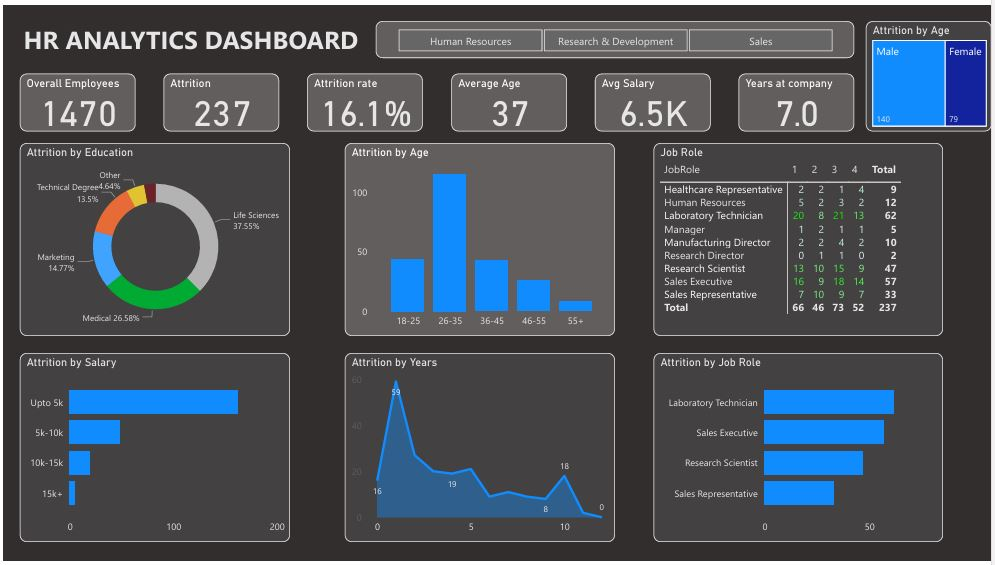

Layout of this report page (visuals, bound fields, positions):
{"tool":"powerbi","page":{"name":"Page 1","canvas":[1280,720],"ordinal":0},"visuals":[{"type":"card","title":"Overall Employees","fields":{"Values":["Sum(HR_Analytics.EmployeeCount)"]},"box":[20.9,87.9,150,75],"z":0},{"type":"card","title":"Attrition","fields":{"Values":["Sum(HR_Analytics.AttritionCount)"]},"box":[207.1,87.9,150,75],"z":1000},{"type":"card","title":"Attrition rate","fields":{"Values":["HR_Analytics.AttritionRate"]},"box":[393.3,87.9,150,75],"z":2000},{"type":"card","title":"Average Age","fields":{"Values":["Avg(HR_Analytics.Age)"]},"box":[579.6,87.9,150,75],"z":3000},{"type":"card","title":"Avg Salary","fields":{"Values":["Avg(HR_Analytics.MonthlyIncome)"]},"box":[765.8,87.9,150,75],"z":4000},{"type":"card","title":"Years at company","fields":{"Values":["Avg(HR_Analytics.YearsAtCompany)"]},"box":[952,87.9,150,75],"z":5000},{"type":"donutChart","title":"Attrition by Education","fields":{"Category":["HR_Analytics.EducationField"],"Y":["Sum(HR_Analytics.AttritionCount)"]},"box":[20.9,177.7,350,250],"z":6000},{"type":"columnChart","title":"Attrition by Age","fields":{"Category":["HR_Analytics.AgeGroup"],"Y":["Sum(HR_Analytics.AttritionCount)"]},"box":[442,177.7,350,250],"z":7000},{"type":"pivotTable","title":"Job Role","fields":{"Rows":["HR_Analytics.JobRole"],"Columns":["HR_Analytics.JobSatisfaction"],"Values":["Sum(HR_Analytics.AttritionCount)"]},"box":[841.8,177.7,375.7,250],"z":8000},{"type":"areaChart","title":"Attrition by Years","fields":{"Category":["HR_Analytics.YearsAtCompany"],"Y":["Sum(HR_Analytics.AttritionCount)"]},"box":[442,450.4,350,245],"z":9000},{"type":"clusteredBarChart","title":"Attrition by Salary","fields":{"Y":["Sum(HR_Analytics.AttritionCount)"],"Category":["HR_Analytics.SalarySlab"]},"box":[20.9,450.4,350,245],"z":10000},{"type":"clusteredBarChart","title":"Attrition by Job Role","fields":{"Y":["Sum(HR_Analytics.AttritionCount)"],"Category":["HR_Analytics.JobRole"]},"box":[841.8,450.4,375,245],"z":11000},{"type":"treemap","title":"Attrition by Age","fields":{"Values":["Sum(HR_Analytics.AttritionCount)"],"Group":["HR_Analytics.Gender"]},"box":[1117.3,19.7,162.7,143],"z":12000},{"type":"slicer","fields":{"Values":["HR_Analytics.Department"]},"box":[482,20,620,48],"z":13000},{"type":"textbox","title":"HR ANALYTICS DASHBOARD","box":[21.2,16.2,540,55],"z":14000}]}

Visuals, with their boxes in screenshot pixels (x1, y1, x2, y2), scaled from the page's 1280x720 canvas onto the 995x565 screenshot:
"Overall Employees" card: (x1=16, y1=69, x2=133, y2=128)
"Attrition" card: (x1=161, y1=69, x2=278, y2=128)
"Attrition rate" card: (x1=306, y1=69, x2=422, y2=128)
"Average Age" card: (x1=451, y1=69, x2=567, y2=128)
"Avg Salary" card: (x1=595, y1=69, x2=712, y2=128)
"Years at company" card: (x1=740, y1=69, x2=857, y2=128)
"Attrition by Education" donutChart: (x1=16, y1=139, x2=288, y2=336)
"Attrition by Age" columnChart: (x1=344, y1=139, x2=616, y2=336)
"Job Role" pivotTable: (x1=654, y1=139, x2=946, y2=336)
"Attrition by Years" areaChart: (x1=344, y1=353, x2=616, y2=546)
"Attrition by Salary" clusteredBarChart: (x1=16, y1=353, x2=288, y2=546)
"Attrition by Job Role" clusteredBarChart: (x1=654, y1=353, x2=946, y2=546)
"Attrition by Age" treemap: (x1=869, y1=15, x2=994, y2=128)
slicer - HR_Analytics.Department: (x1=375, y1=16, x2=857, y2=53)
"HR ANALYTICS DASHBOARD" textbox: (x1=16, y1=13, x2=436, y2=56)
